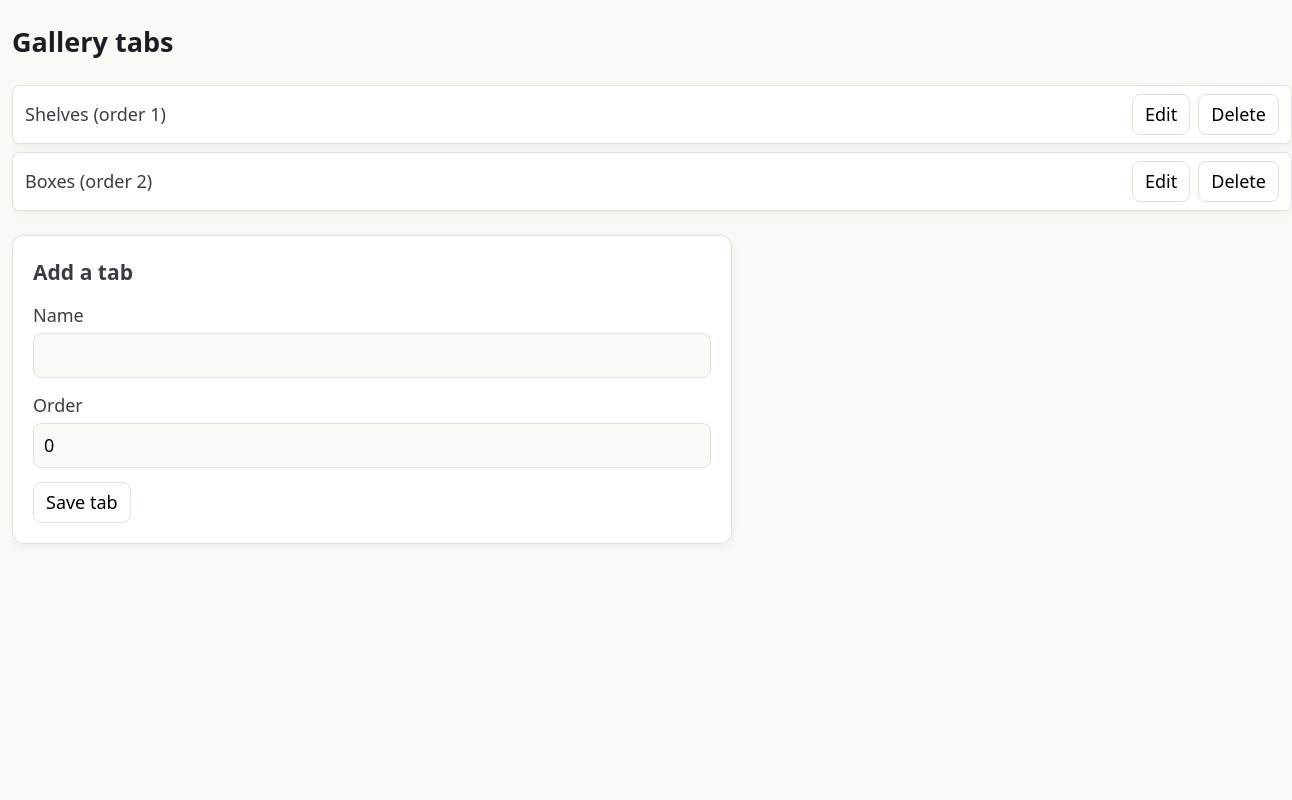
Test: TabsPanel › shows a save failure with a non-Error
Expected: the text "Shelves (order 1)" is shown, [25,101,166,128]
Type "Oops" into the field labelled "Name" at (372, 355), box [33,333,711,378]
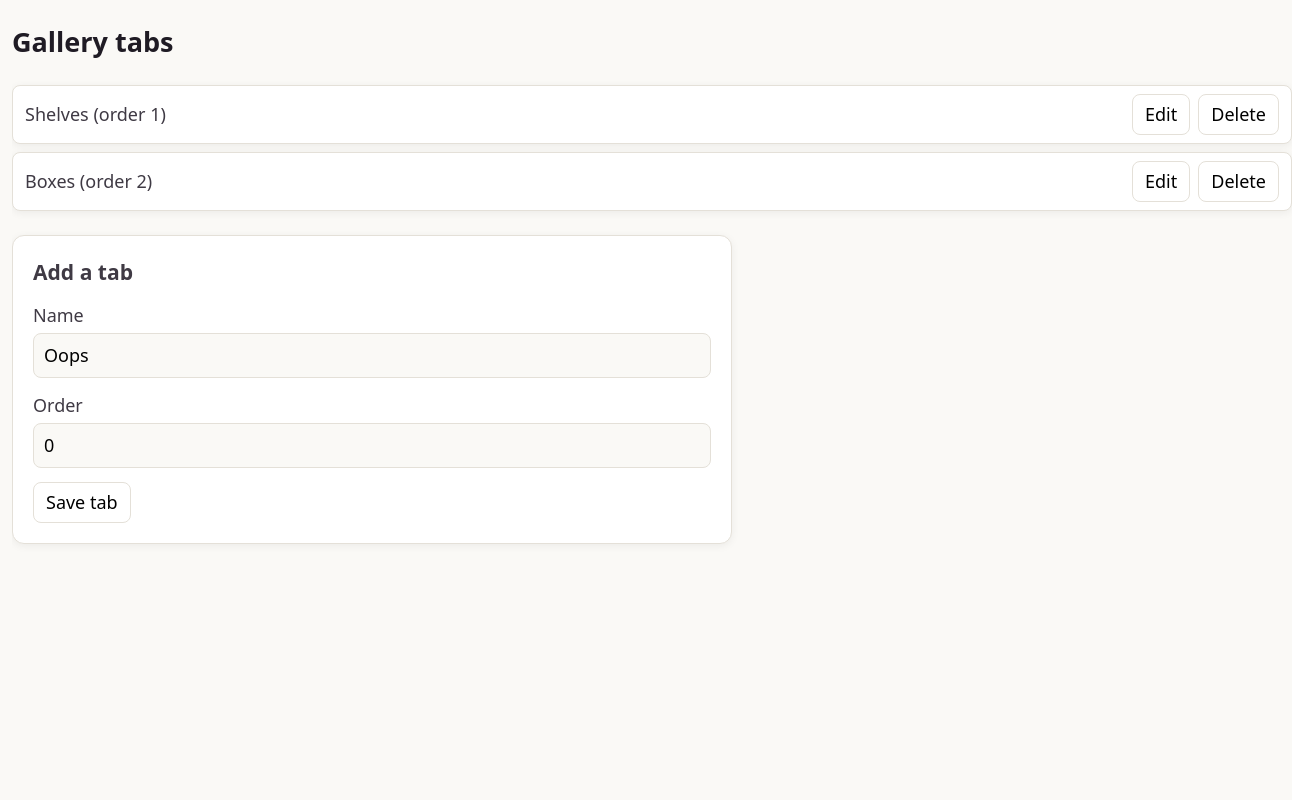
Click the button "Save tab" at (82, 502), box [33,482,131,523]
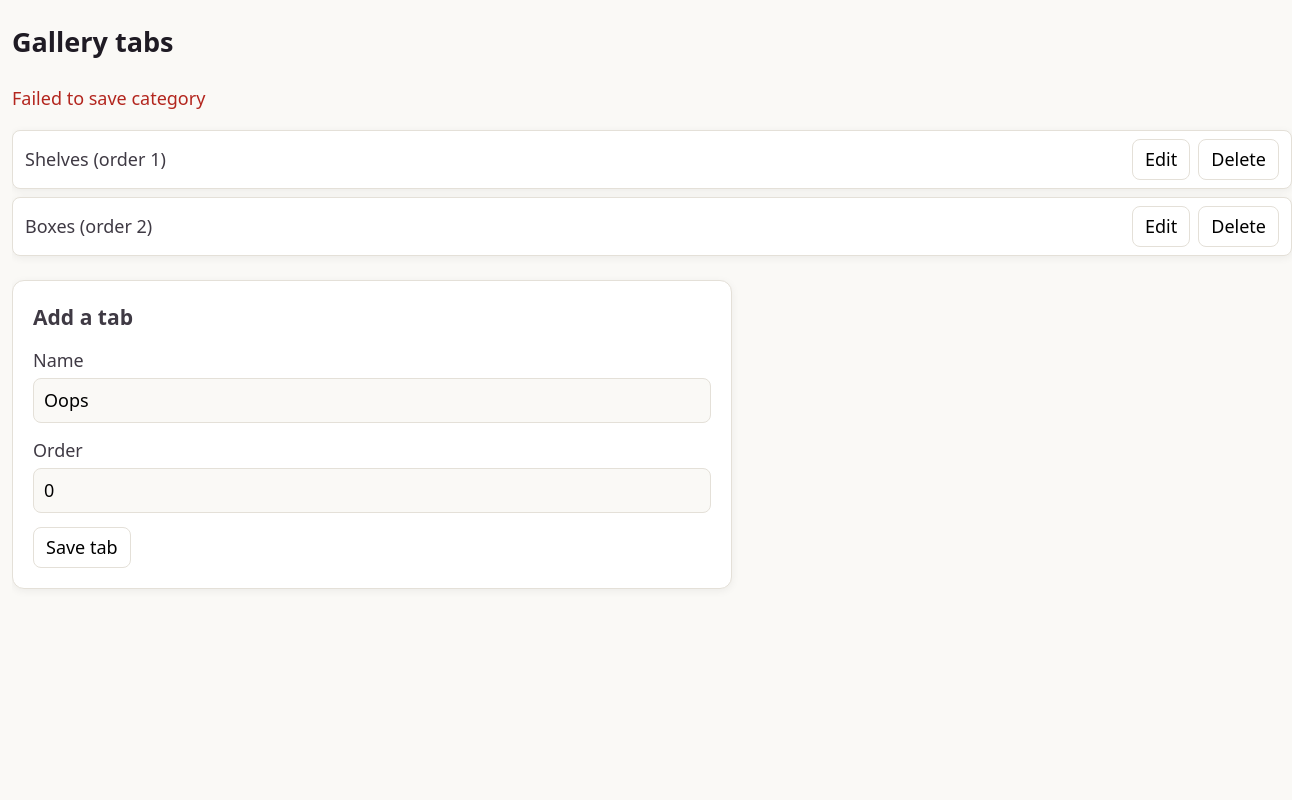
Expected: the text "Failed to save category" is shown, [12,86,205,110]
